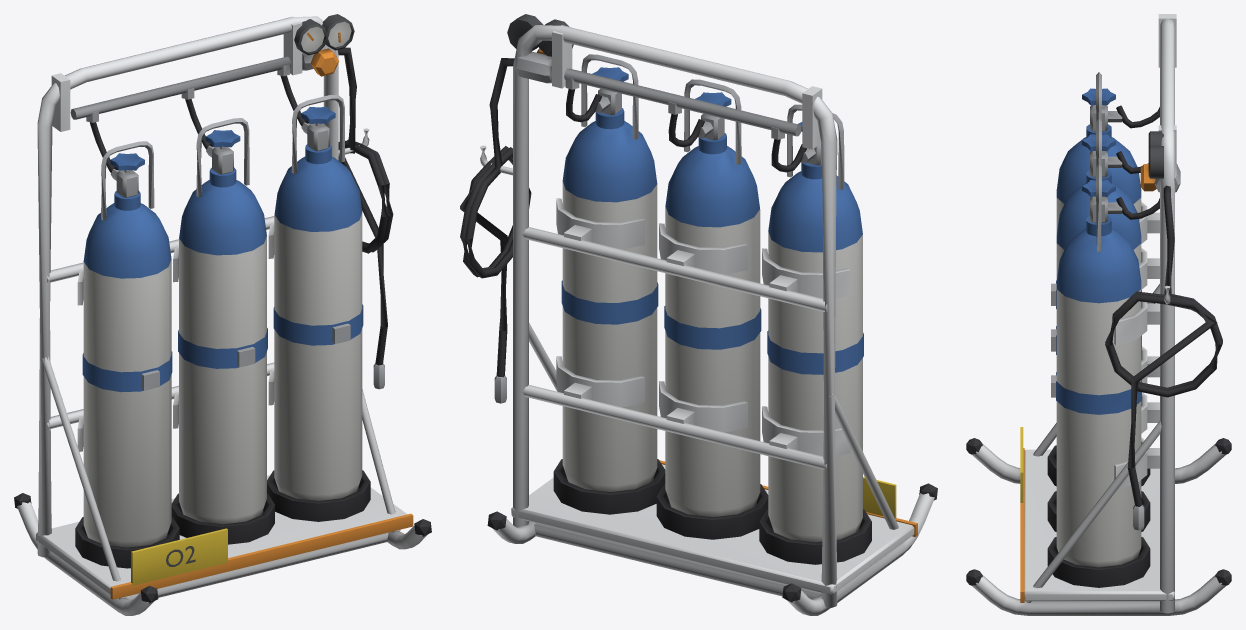
The model's file is o2_cache.glb.
The picture shows the model from 3 angles, left to right: view 1: azimuth 30°, elevation 25°; view 2: azimuth 150°, elevation 25°; view 3: azimuth 270°, elevation 25°; orthographic projection. The views are drawn at different scales.
Parts seen in each view (by area): view 1: o2_cache_mesh, tank_2_mesh, tank_1_mesh, tank_0_mesh; view 2: o2_cache_mesh, tank_2_mesh, tank_1_mesh, tank_0_mesh; view 3: o2_cache_mesh, tank_2_mesh, tank_1_mesh, tank_0_mesh.
Boxes of the visible parts, x1,y1,x2,y2 form: o2_cache_mesh: (14, 14, 431, 615); tank_2_mesh: (273, 94, 363, 500); tank_1_mesh: (178, 118, 267, 524); tank_0_mesh: (82, 141, 172, 547); o2_cache_mesh: (460, 14, 937, 615); tank_2_mesh: (561, 54, 658, 491); tank_1_mesh: (664, 79, 761, 517); tank_0_mesh: (767, 104, 863, 542); o2_cache_mesh: (966, 14, 1231, 615); tank_2_mesh: (1051, 164, 1141, 567); tank_1_mesh: (1051, 118, 1141, 354); tank_0_mesh: (1051, 72, 1141, 308).
Bounding box in the file's own units: 1.05 × 1.45 × 0.7359.
